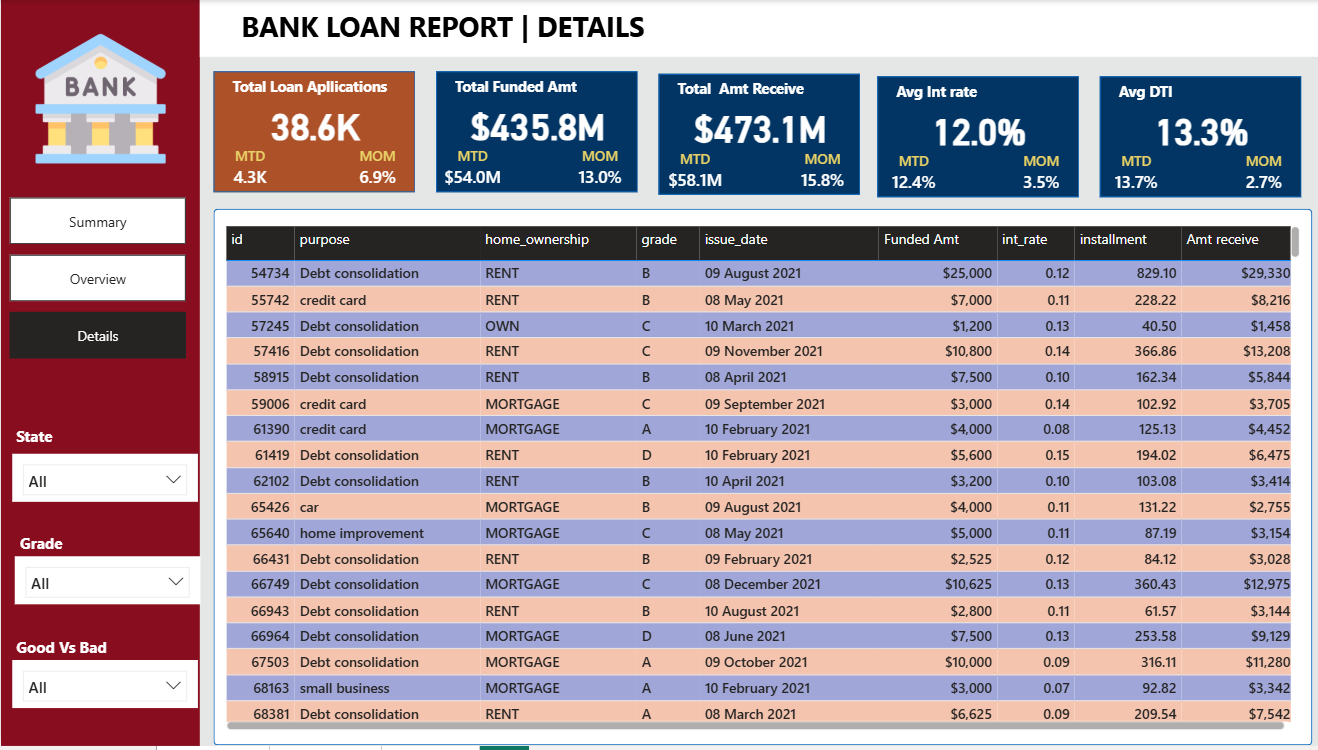

The page's visual inventory and layout, read from the dashboard file:
{"tool":"powerbi","page":{"name":"Details","canvas":[1280,720],"ordinal":2},"visuals":[{"type":"image","box":[26,27.4,141.4,135.6],"z":0,"group":"g10"},{"type":"shape","box":[205.1,68.8,194.8,116.9],"z":0,"group":"g1"},{"type":"shape","box":[420.1,68.8,194.8,116.9],"z":0,"group":"g3"},{"type":"shape","box":[635,71.7,194.8,116.9],"z":0,"group":"g4"},{"type":"shape","box":[845.7,73.1,194.8,116.9],"z":0,"group":"g6"},{"type":"shape","box":[1060.7,73.1,194.8,116.9],"z":0,"group":"g8"},{"type":"shape","box":[204.9,202,1060.4,518],"z":0},{"type":"slicer","title":"State","fields":{"Values":["public loan_data.address_state"]},"box":[10.1,437.1,178.9,46.2],"z":0,"group":"g5"},{"type":"slicer","title":"State","fields":{"Values":["public loan_data.grade"]},"box":[13,536.7,178.9,46.2],"z":0,"group":"g7"},{"type":"slicer","title":"State","fields":{"Values":["public loan_data.Good Vs Bad Loan"]},"box":[10.1,636.3,178.9,46.2],"z":0,"group":"g9"},{"type":"shape","box":[0,0,191.9,719.9],"z":1000},{"type":"card","fields":{"Values":["meassures.total loan application"]},"box":[218.1,99.1,170.2,41.8],"z":1000,"group":"g1"},{"type":"card","fields":{"Values":["meassures.Total Funded Amt"]},"box":[433.1,99.1,170.2,41.8],"z":1000,"group":"g3"},{"type":"card","fields":{"Values":["meassures.Total Amt receive"]},"box":[648,102,170.2,41.8],"z":1000,"group":"g4"},{"type":"card","fields":{"Values":["meassures.Avg Int rate"]},"box":[858.7,103.4,170.2,41.8],"z":1000,"group":"g6"},{"type":"card","fields":{"Values":["meassures.Avg DTI"]},"box":[1073.7,103.4,170.2,41.8],"z":1000,"group":"g8"},{"type":"pageNavigator","box":[8.7,190.4,170.2,157.3],"z":1000,"group":"g10"},{"type":"textbox","box":[9.2,405.1,77.9,50.5],"z":1000,"group":"g5"},{"type":"textbox","box":[13,509.3,57.7,50.5],"z":1000,"group":"g7"},{"type":"textbox","box":[9.2,609,109.6,30.3],"z":1000,"group":"g9"},{"type":"shape","box":[191.9,0,1087.8,54.8],"z":2000},{"type":"textbox","box":[218.1,68.8,170.2,36.1],"z":2000,"group":"g1"},{"type":"textbox","box":[433.1,68.8,170.2,36.1],"z":2000,"group":"g3"},{"type":"textbox","box":[648,71.7,170.2,36.1],"z":2000,"group":"g4"},{"type":"textbox","box":[858.7,73.1,170.2,36.1],"z":2000,"group":"g6"},{"type":"textbox","box":[1073.7,73.1,170.2,36.1],"z":2000,"group":"g8"},{"type":"textbox","box":[226.5,2.9,453,51.9],"z":3000},{"type":"group","id":"g1","title":"Group 1","box":[205.1,68.8,204.9,116.9],"z":3000,"group":"g2"},{"type":"card","title":"MTD","fields":{"Values":["meassures.MTD Loan Application"]},"box":[205.1,140.9,70.7,44.7],"z":3000,"group":"g1"},{"type":"card","title":"MTD","fields":{"Values":["meassures.MTD Funded Amt"]},"box":[420.1,140.9,70.7,44.7],"z":3000,"group":"g3"},{"type":"card","title":"MTD","fields":{"Values":["meassures.MTD Receive Amt"]},"box":[635,143.8,70.7,44.7],"z":3000,"group":"g4"},{"type":"card","title":"MTD","fields":{"Values":["meassures.MTD Interest rate"]},"box":[845.7,145.2,70.7,44.7],"z":3000,"group":"g6"},{"type":"card","title":"MTD","fields":{"Values":["meassures.MTD DTI"]},"box":[1060.7,145.2,70.7,44.7],"z":3000,"group":"g8"},{"type":"group","id":"g2","title":"Group 2","box":[205.1,68.8,1060.5,121.9],"z":4000},{"type":"group","id":"g3","title":"Group 1","box":[420.1,68.8,204.9,116.9],"z":4000,"group":"g2"},{"type":"card","title":"MOM","fields":{"Values":["meassures.MOM Loan Applications"]},"box":[317.6,140.9,92.3,44.7],"z":4000,"group":"g1"},{"type":"card","title":"MOM","fields":{"Values":["meassures.MOM Funded Amt"]},"box":[532.6,140.9,92.3,44.7],"z":4000,"group":"g3"},{"type":"card","title":"MOM","fields":{"Values":["meassures.MOM"]},"box":[747.5,143.8,92.3,44.7],"z":4000,"group":"g4"},{"type":"card","title":"MOM","fields":{"Values":["meassures.MOM"]},"box":[958.2,145.2,92.3,44.7],"z":4000,"group":"g6"},{"type":"card","title":"MOM","fields":{"Values":["meassures.MOM DTI"]},"box":[1173.2,145.2,92.3,44.7],"z":4000,"group":"g8"},{"type":"group","id":"g4","title":"Group 1","box":[635,71.7,204.9,116.9],"z":5000,"group":"g2"},{"type":"group","id":"g5","title":"Group 5","box":[9.2,405.1,179.8,78.2],"z":5000},{"type":"group","id":"g6","title":"Group 1","box":[845.7,73.1,204.9,116.9],"z":6000,"group":"g2"},{"type":"group","id":"g7","title":"Group 5","box":[13,509.3,178.9,73.6],"z":6000},{"type":"group","id":"g8","title":"Group 1","box":[1060.7,73.1,204.9,116.9],"z":7000,"group":"g2"},{"type":"group","id":"g9","title":"Group 5","box":[9.2,609,179.8,73.5],"z":7000},{"type":"tableEx","fields":{"Values":["public loan_data.id","public loan_data.purpose","public loan_data.home_ownership","public loan_data.grade","public loan_data.issue_date","meassures.Total Funded Amt","Sum(public loan_data.int_rate)","Sum(public loan_data.installment)","meassures.Total Amt receive"]},"box":[210.6,213.5,1047.4,496.3],"z":8000},{"type":"group","id":"g10","title":"Group 6","box":[8.7,27.4,170.2,320.3],"z":9000}]}

Visuals, with their boxes in screenshot pixels (x1, y1, x2, y2), scaled from the page's 1280x720 canvas onto the 1318x750 screenshot:
image: pyautogui.locateOnScreen(27, 29, 172, 170)
shape: pyautogui.locateOnScreen(211, 72, 412, 193)
shape: pyautogui.locateOnScreen(433, 72, 633, 193)
shape: pyautogui.locateOnScreen(654, 75, 854, 196)
shape: pyautogui.locateOnScreen(871, 76, 1071, 198)
shape: pyautogui.locateOnScreen(1092, 76, 1293, 198)
shape: pyautogui.locateOnScreen(211, 210, 1303, 749)
"State" slicer: pyautogui.locateOnScreen(10, 455, 195, 503)
"State" slicer: pyautogui.locateOnScreen(13, 559, 198, 607)
"State" slicer: pyautogui.locateOnScreen(10, 663, 195, 711)
shape: pyautogui.locateOnScreen(0, 0, 198, 749)
card - meassures.total loan application: pyautogui.locateOnScreen(225, 103, 400, 147)
card - meassures.Total Funded Amt: pyautogui.locateOnScreen(446, 103, 621, 147)
card - meassures.Total Amt receive: pyautogui.locateOnScreen(667, 106, 842, 150)
card - meassures.Avg Int rate: pyautogui.locateOnScreen(884, 108, 1059, 151)
card - meassures.Avg DTI: pyautogui.locateOnScreen(1106, 108, 1281, 151)
pageNavigator: pyautogui.locateOnScreen(9, 198, 184, 362)
textbox: pyautogui.locateOnScreen(9, 422, 90, 475)
textbox: pyautogui.locateOnScreen(13, 531, 73, 583)
textbox: pyautogui.locateOnScreen(9, 634, 122, 666)
shape: pyautogui.locateOnScreen(198, 0, 1317, 57)
textbox: pyautogui.locateOnScreen(225, 72, 400, 109)
textbox: pyautogui.locateOnScreen(446, 72, 621, 109)
textbox: pyautogui.locateOnScreen(667, 75, 842, 112)
textbox: pyautogui.locateOnScreen(884, 76, 1059, 114)
textbox: pyautogui.locateOnScreen(1106, 76, 1281, 114)
textbox: pyautogui.locateOnScreen(233, 3, 700, 57)
"Group 1" group: pyautogui.locateOnScreen(211, 72, 422, 193)
"MTD" card: pyautogui.locateOnScreen(211, 147, 284, 193)
"MTD" card: pyautogui.locateOnScreen(433, 147, 505, 193)
"MTD" card: pyautogui.locateOnScreen(654, 150, 727, 196)
"MTD" card: pyautogui.locateOnScreen(871, 151, 944, 198)
"MTD" card: pyautogui.locateOnScreen(1092, 151, 1165, 198)
"Group 2" group: pyautogui.locateOnScreen(211, 72, 1303, 199)
"Group 1" group: pyautogui.locateOnScreen(433, 72, 644, 193)
"MOM" card: pyautogui.locateOnScreen(327, 147, 422, 193)
"MOM" card: pyautogui.locateOnScreen(548, 147, 643, 193)
"MOM" card: pyautogui.locateOnScreen(770, 150, 865, 196)
"MOM" card: pyautogui.locateOnScreen(987, 151, 1082, 198)
"MOM" card: pyautogui.locateOnScreen(1208, 151, 1303, 198)
"Group 1" group: pyautogui.locateOnScreen(654, 75, 865, 196)
"Group 5" group: pyautogui.locateOnScreen(9, 422, 195, 503)
"Group 1" group: pyautogui.locateOnScreen(871, 76, 1082, 198)
"Group 5" group: pyautogui.locateOnScreen(13, 531, 198, 607)
"Group 1" group: pyautogui.locateOnScreen(1092, 76, 1303, 198)
"Group 5" group: pyautogui.locateOnScreen(9, 634, 195, 711)
tableEx - public loan_data.id x public loan_data.purpose: pyautogui.locateOnScreen(217, 222, 1295, 739)
"Group 6" group: pyautogui.locateOnScreen(9, 29, 184, 362)
